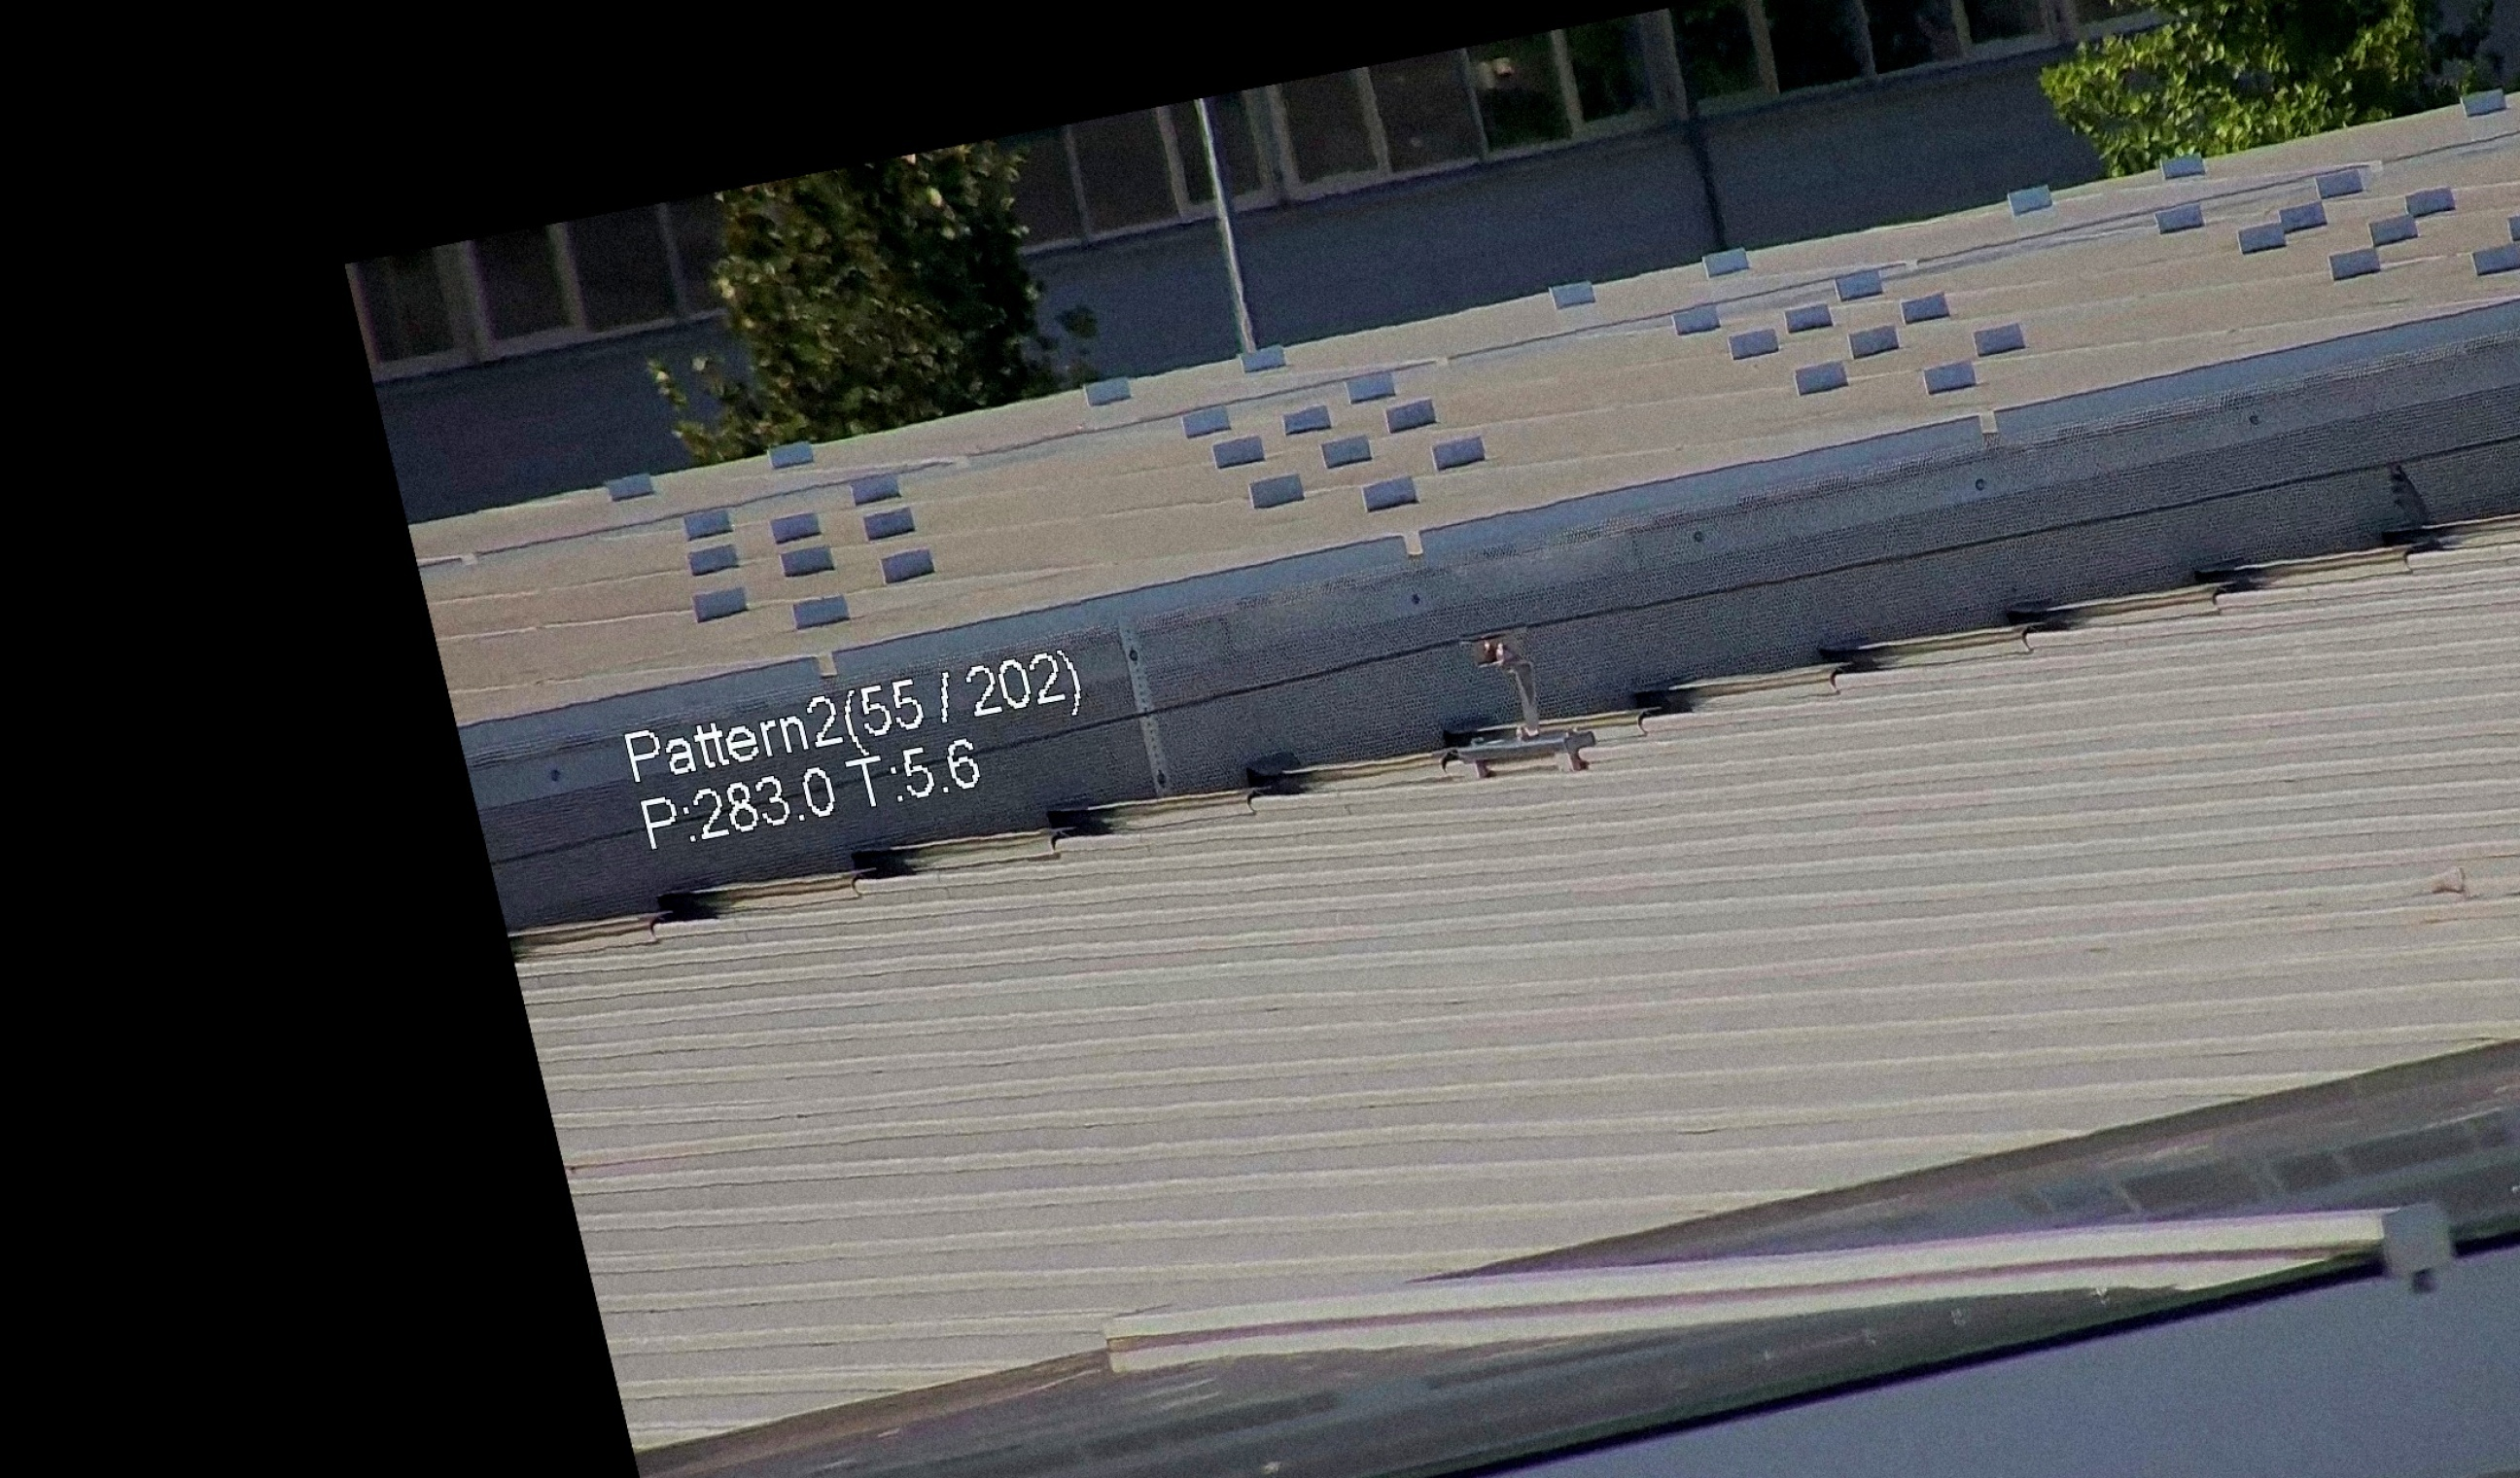Other: (2365, 428, 2478, 561)
